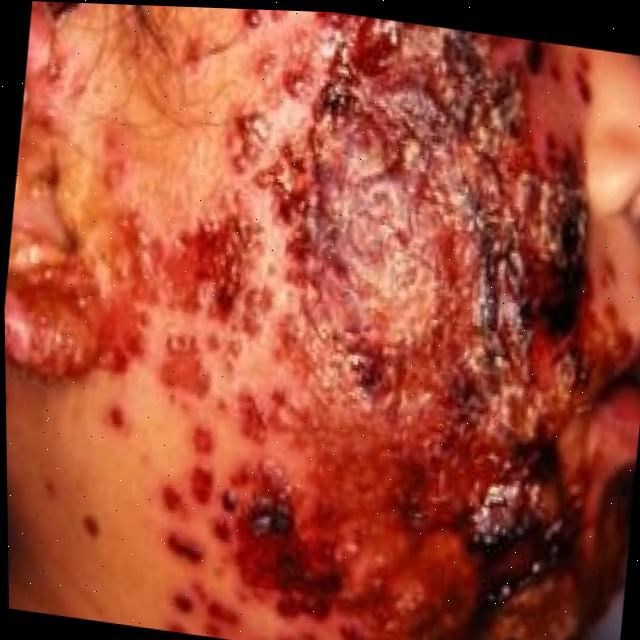Eczema: (12, 0, 627, 640)
